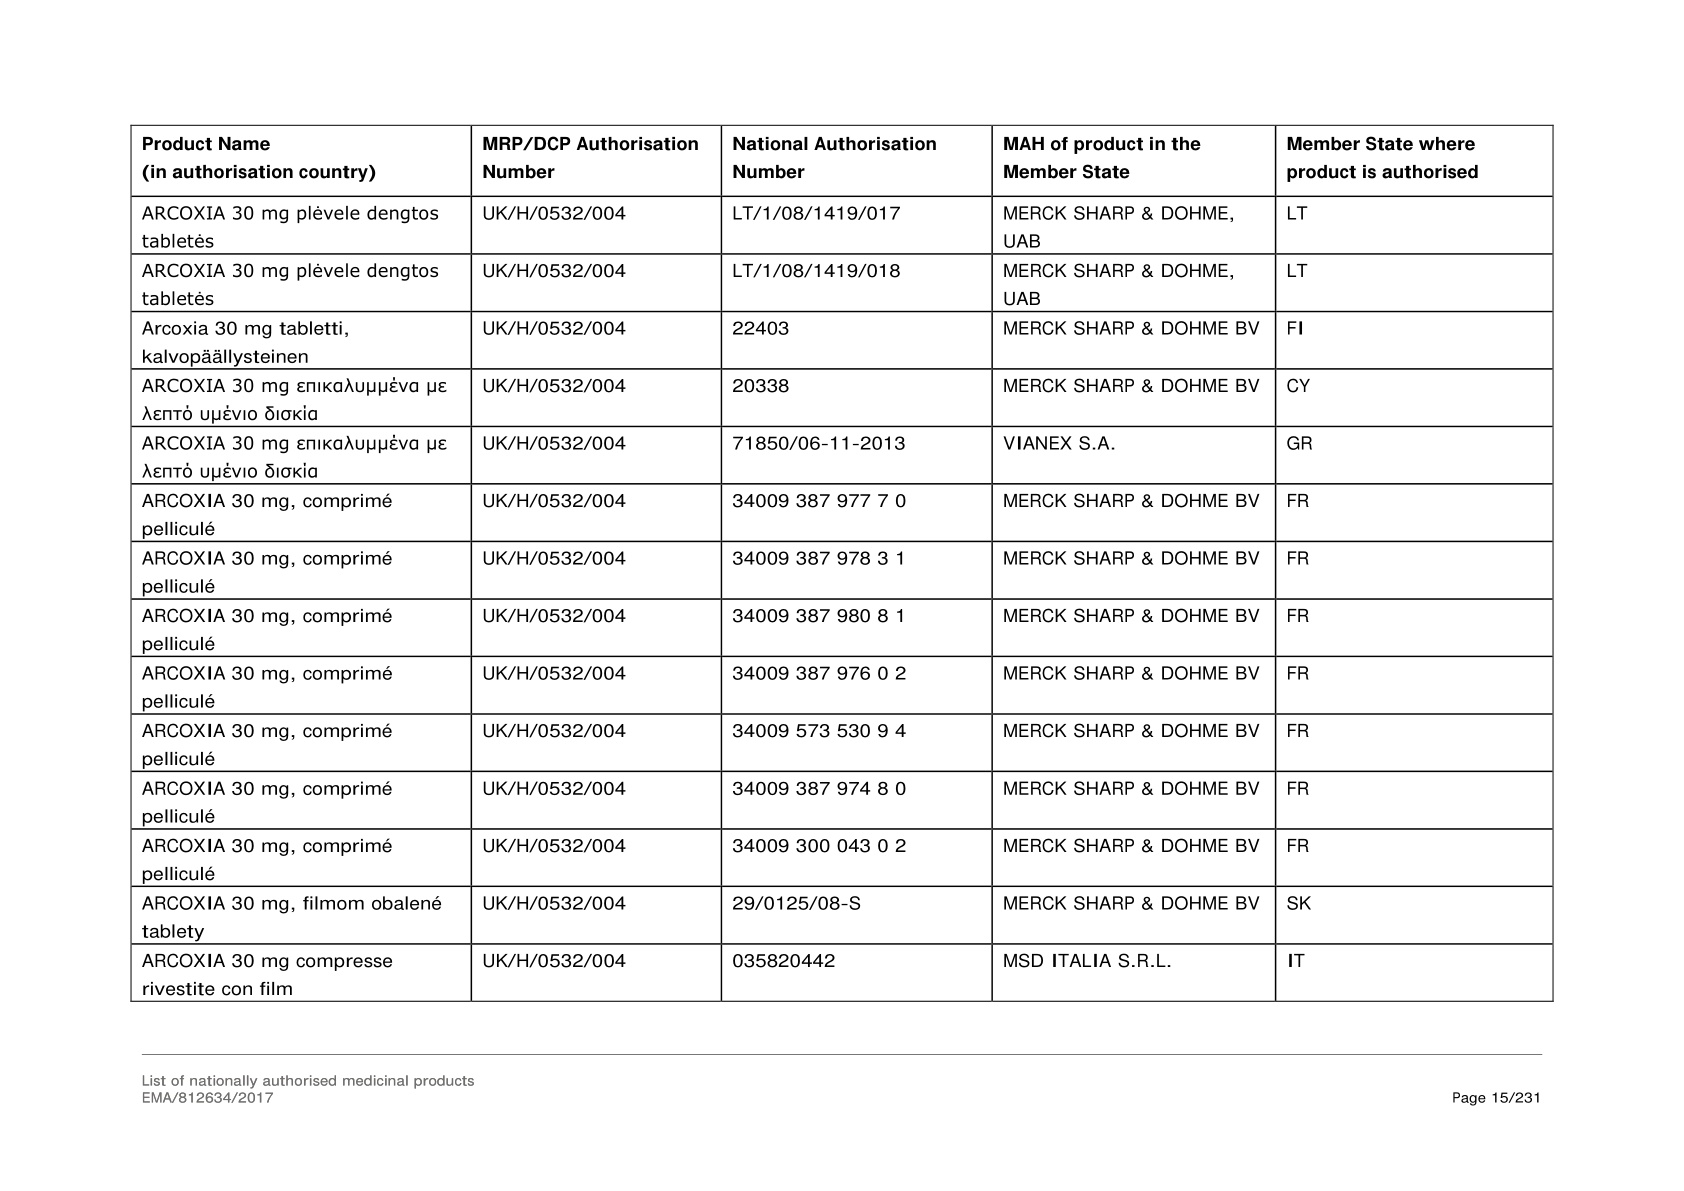full_lined: (129, 124, 1554, 1004)
